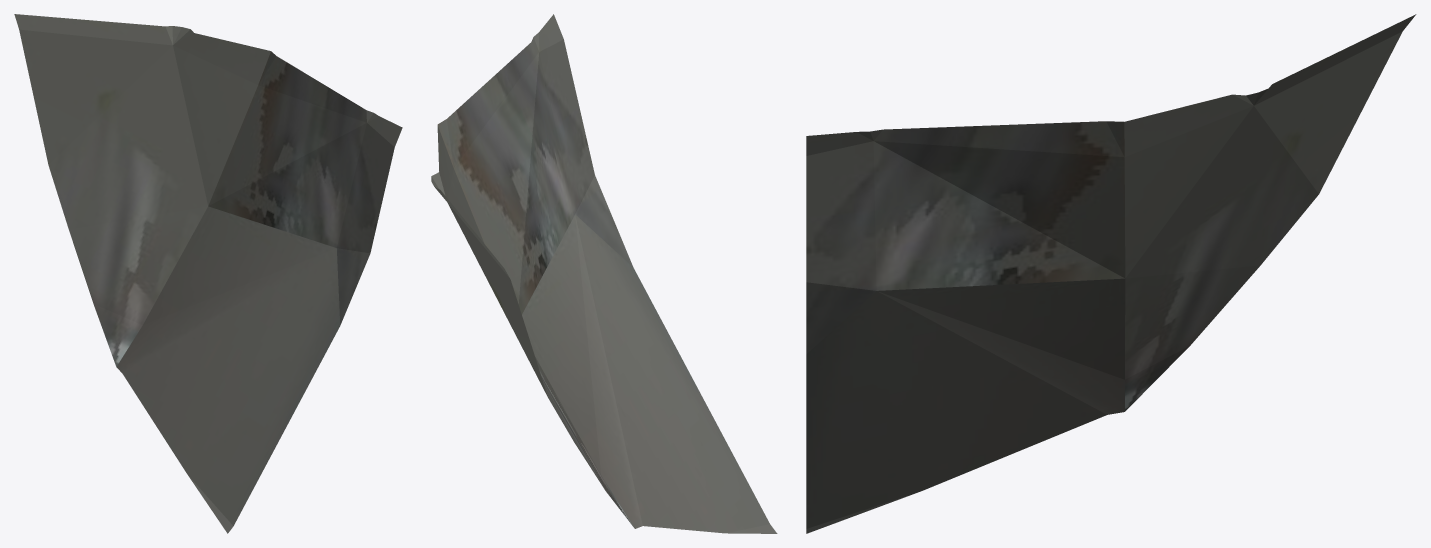
3 views of the same model, side by side, from view 1: azimuth 30°, elevation 25°; view 2: azimuth 150°, elevation 25°; view 3: azimuth 270°, elevation 25° (orthographic). The views are drawn at different scales.
Bounding box in the file's own units: 0.2996 × 0.5953 × 0.6333.
1 material, 1 textured.
